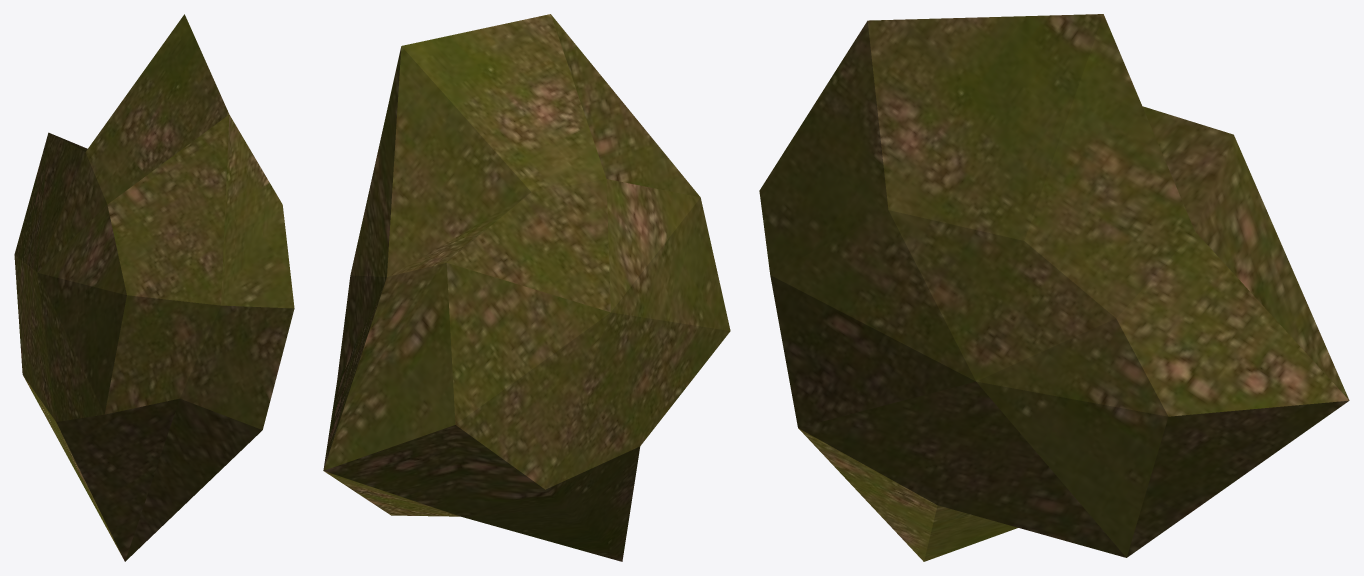
File: scree_2.glb
The picture shows the model from 3 angles, left to right: view 1: azimuth 30°, elevation 25°; view 2: azimuth 150°, elevation 25°; view 3: azimuth 270°, elevation 25°; orthographic projection. The views are drawn at different scales.
Parts seen in each view (by area): view 1: scree; view 2: scree; view 3: scree.
Part boxes in pixels (bbox=[...]): scree: bbox=[14, 14, 294, 561]; scree: bbox=[323, 14, 730, 561]; scree: bbox=[759, 14, 1349, 561].
Size of the model in its own units: 0.3648 by 0.7251 by 0.6147.
Materials: 1 (1 with a texture image).
